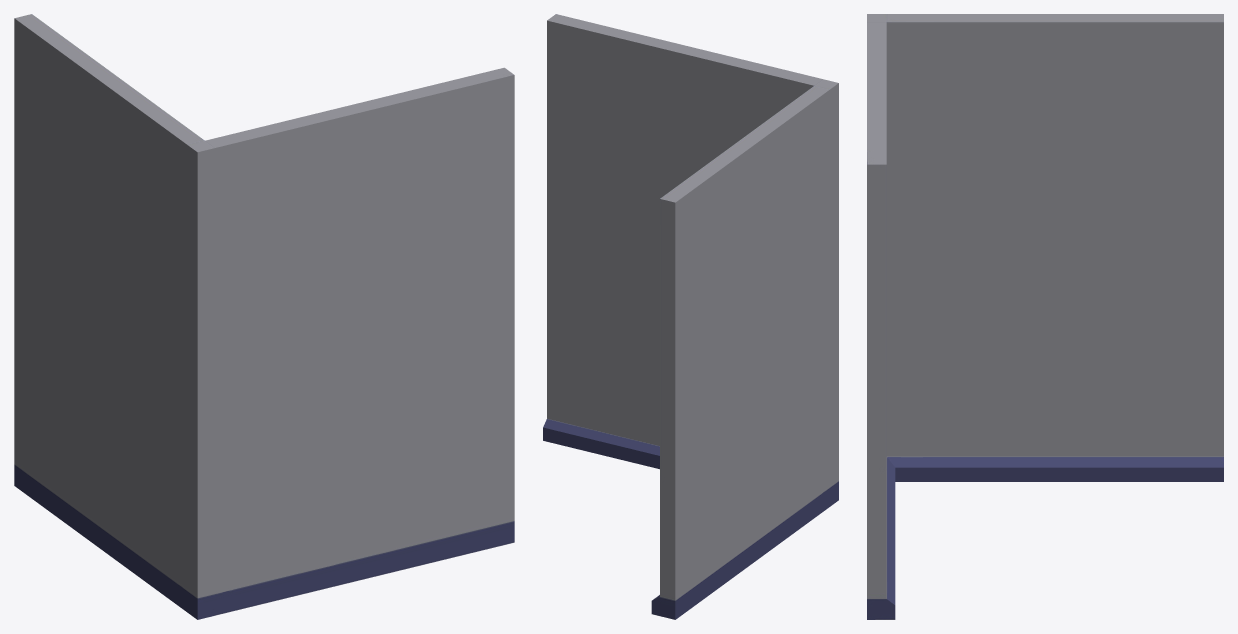
Rendered from wall1.glb.
3 views of the same model, side by side, from view 1: azimuth 30°, elevation 25°; view 2: azimuth 150°, elevation 25°; view 3: azimuth 270°, elevation 25° (orthographic). The views are drawn at different scales.
Visible parts, largest first — view 1: Wall1-material; view 2: Wall1-material; view 3: Wall1-material.
Part boxes in pixels (left/top/right/bottom): Wall1-material: left=14, top=14, right=514, bottom=619; Wall1-material: left=543, top=14, right=838, bottom=619; Wall1-material: left=867, top=14, right=1223, bottom=619.
Bounding box in the file's own units: 0.3451 × 0.4864 × 0.3453.
1 material, 1 textured.
